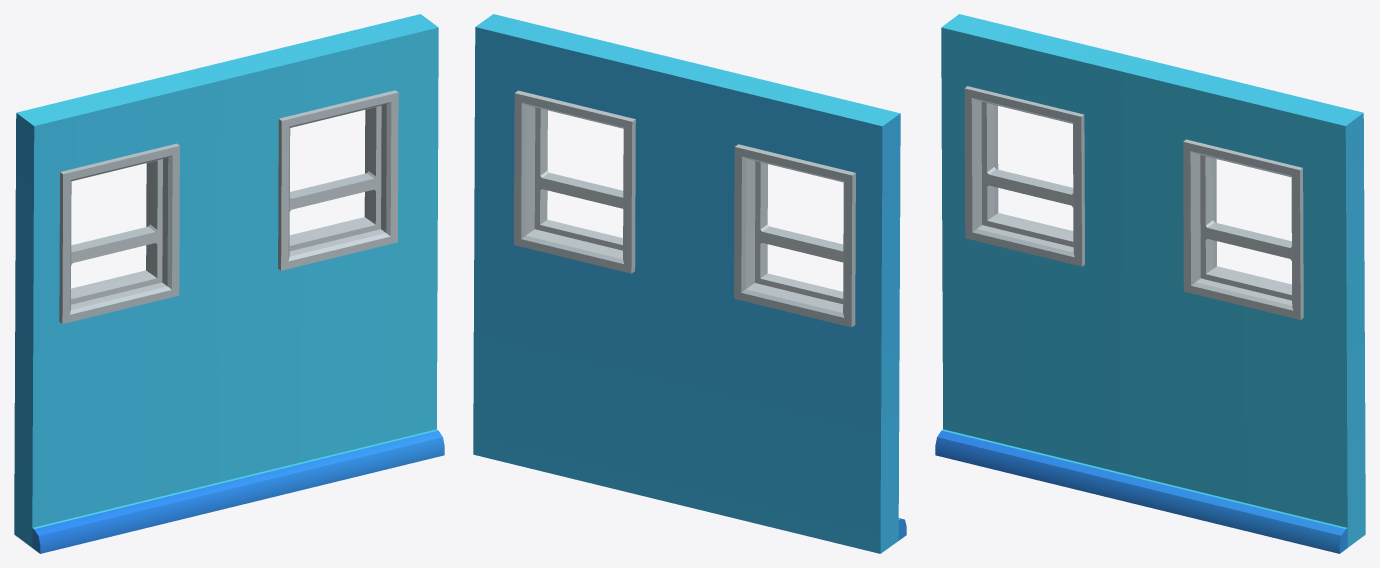
File: B_Wall003.fbx
The picture shows the model from 3 angles, left to right: view 1: azimuth 30°, elevation 25°; view 2: azimuth 150°, elevation 25°; view 3: azimuth 330°, elevation 25°; orthographic projection.
Parts seen in each view (by area): view 1: Wall003; view 2: Wall003; view 3: Wall003.
Boxes of the visible parts, left/top/right/bottom form: Wall003: left=14, top=14, right=444, bottom=553; Wall003: left=473, top=14, right=906, bottom=553; Wall003: left=935, top=14, right=1365, bottom=553.
Size of the model in its own units: 250 by 250 by 30.71.
1 material, 1 textured.
